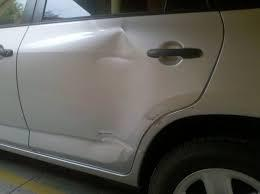doorouter-dent: (38, 21, 166, 164)
